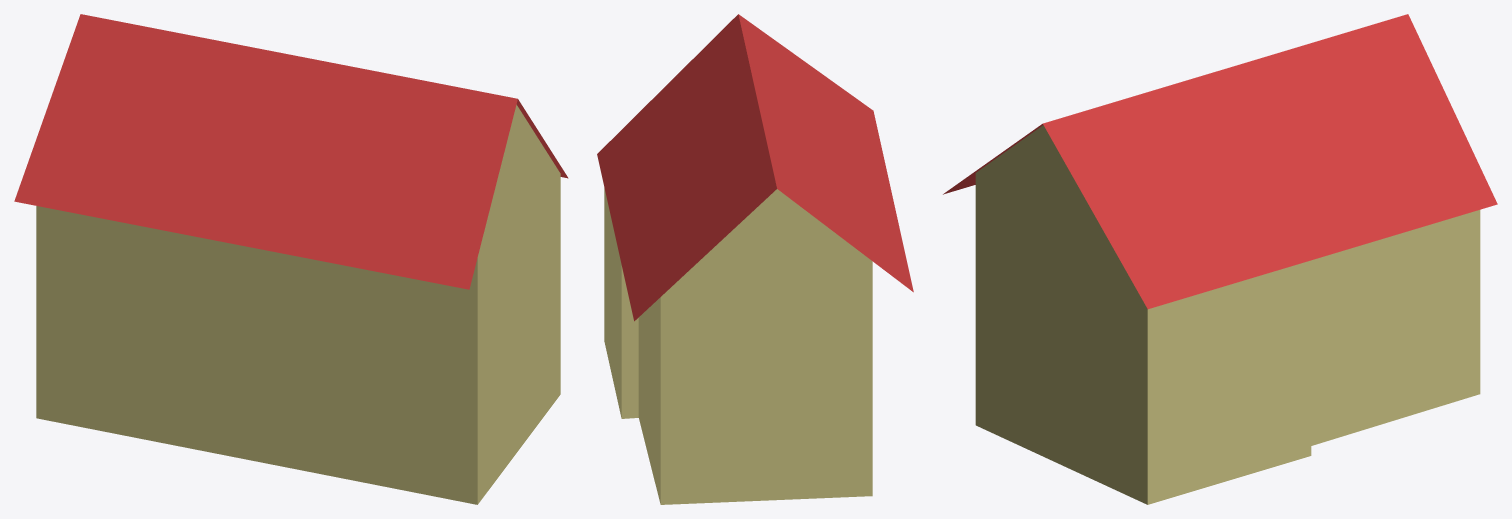
3 views of the same model, side by side, from view 1: azimuth 30°, elevation 25°; view 2: azimuth 150°, elevation 25°; view 3: azimuth 270°, elevation 25° (orthographic). The views are drawn at different scales.
Size of the model in its own units: 20.66 by 23.17 by 15.48.
